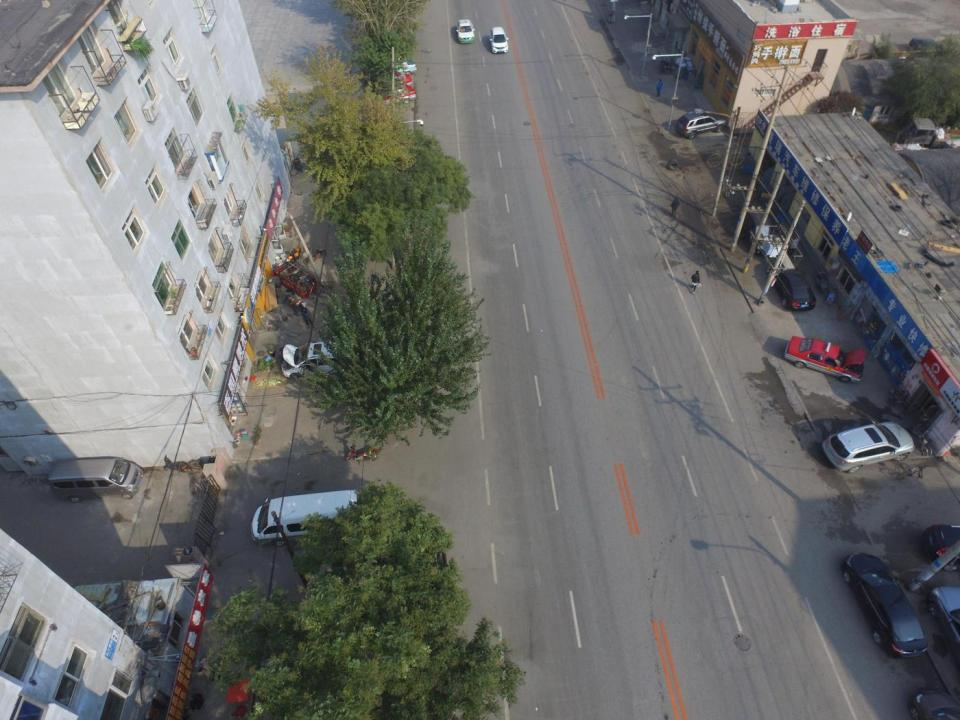car: (840, 552, 930, 660), (821, 420, 915, 474), (783, 335, 866, 385), (281, 339, 377, 380), (766, 264, 817, 311), (740, 205, 777, 256), (676, 108, 726, 140), (455, 19, 476, 44), (490, 26, 508, 54)
van: (249, 489, 372, 548), (47, 456, 145, 503)
